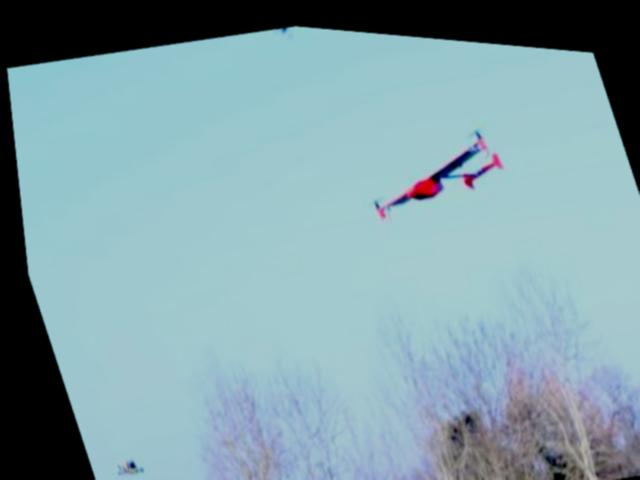uav: (335, 91, 524, 232)
